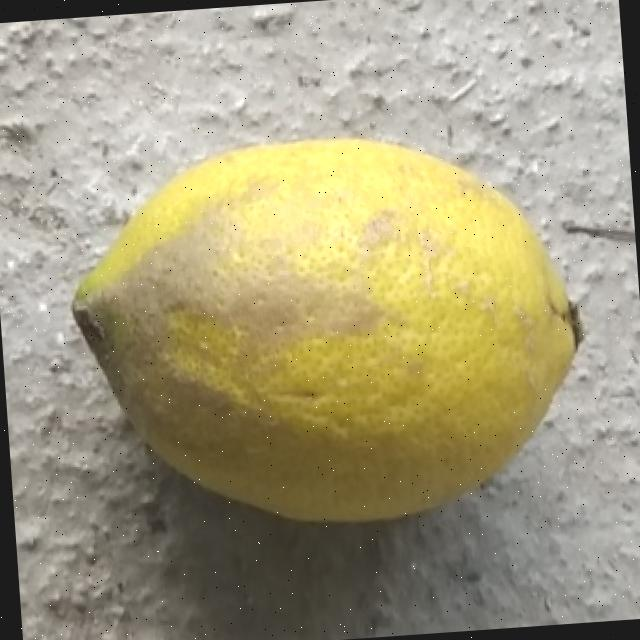overripe: (55, 117, 598, 550)
